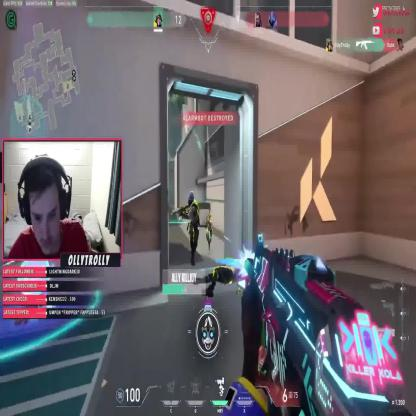enemy: (186, 190, 198, 265), (205, 208, 212, 247)
enemy_head: (188, 192, 194, 208), (208, 209, 210, 218)
